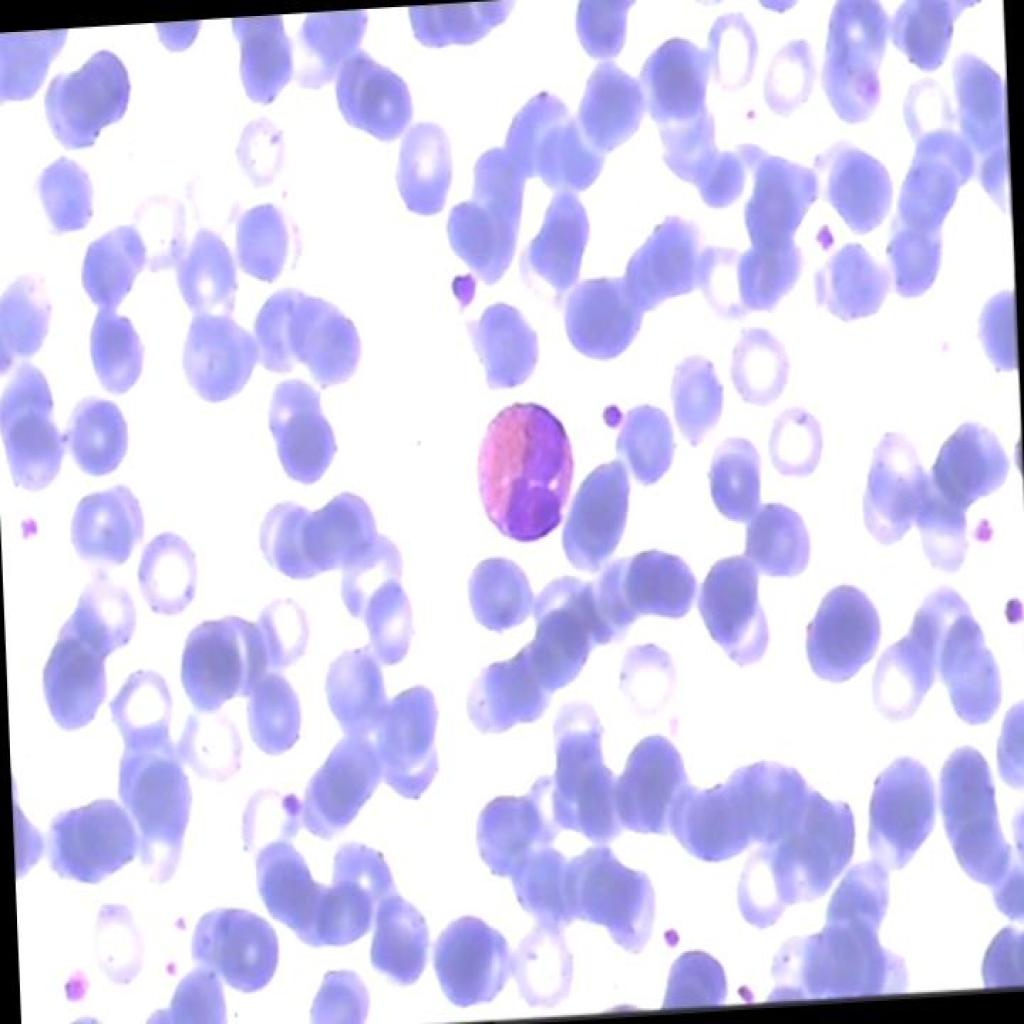Eosinofil: (462, 391, 592, 564)
Platelet: (16, 496, 54, 562), (440, 252, 480, 314), (597, 391, 640, 439), (960, 508, 998, 560), (727, 960, 758, 1010), (58, 965, 92, 1010), (801, 214, 839, 254), (149, 942, 175, 998), (994, 583, 1023, 629), (654, 908, 681, 956), (158, 905, 183, 940)
